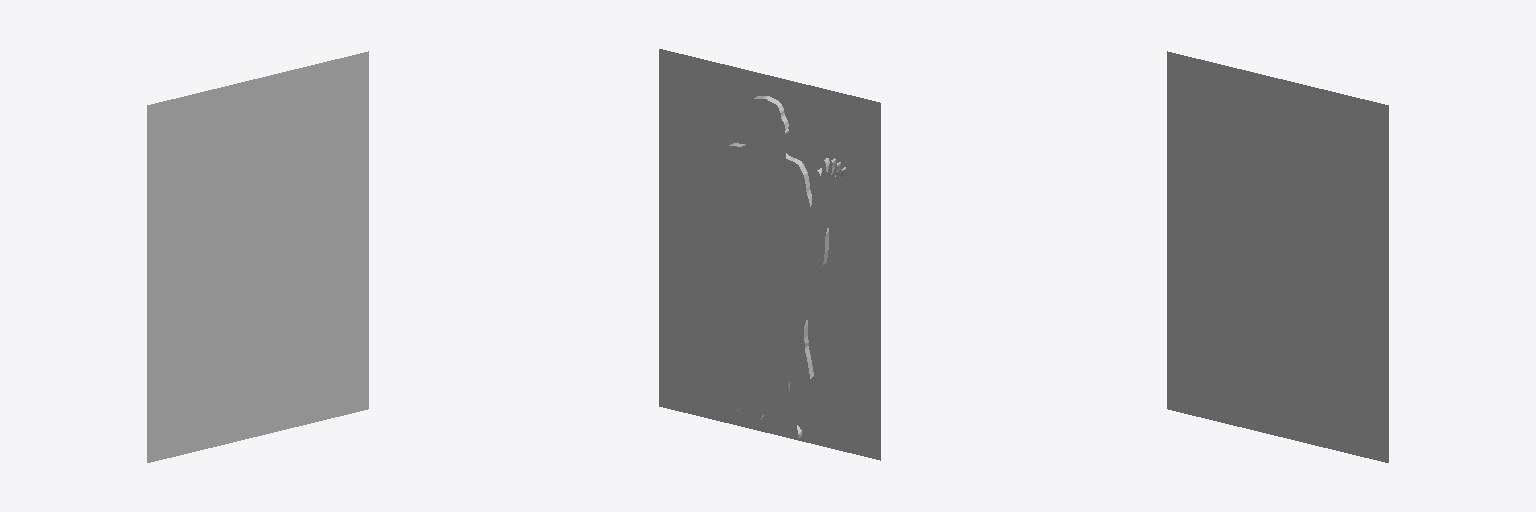
Rendered from Omero.obj.
3 renders of one model, left to right at view 1: azimuth 30°, elevation 25°; view 2: azimuth 150°, elevation 25°; view 3: azimuth 330°, elevation 25°, orthographic.
Parts seen in each view (by area): view 1: Mesh2 Model, Mesh1 Group1 Model; view 2: Mesh2 Model, Mesh1 Group1 Model; view 3: Mesh2 Model, Mesh1 Group1 Model.
Part boxes in pixels (x1,y1,x2,y2): Mesh2 Model: (147, 51, 368, 462); Mesh1 Group1 Model: (182, 99, 317, 438); Mesh2 Model: (659, 49, 880, 460); Mesh1 Group1 Model: (706, 96, 845, 438); Mesh2 Model: (1167, 51, 1388, 462); Mesh1 Group1 Model: (1202, 99, 1337, 438).
Size of the model in its own units: 1.06 by 1.64 by 0.032.